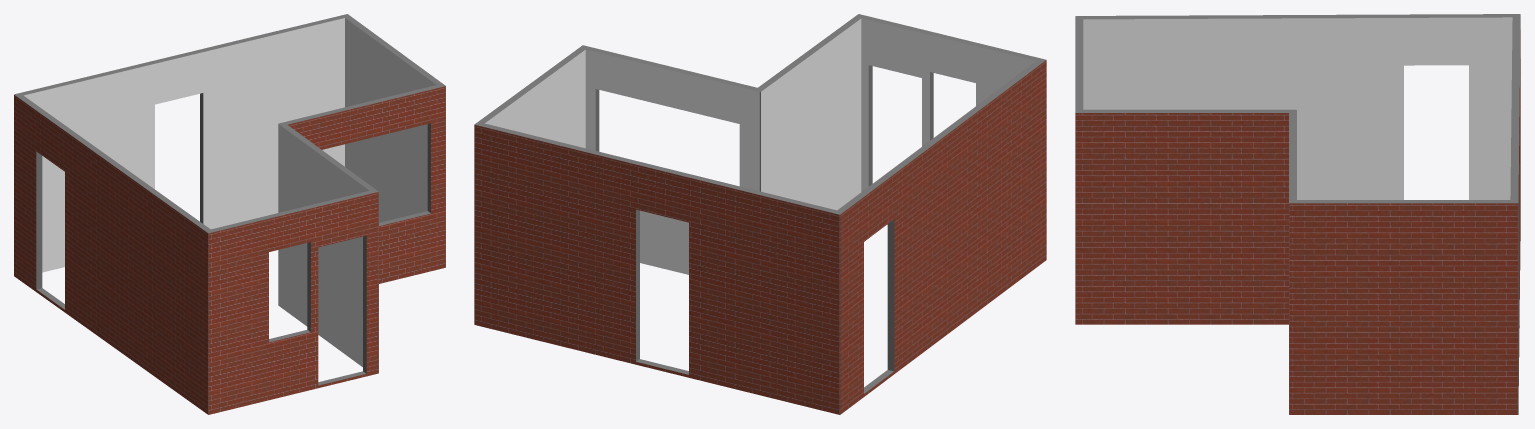
3 views of the same model, side by side, from view 1: azimuth 30°, elevation 25°; view 2: azimuth 150°, elevation 25°; view 3: azimuth 270°, elevation 25° (orthographic). The views are drawn at different scales.
Visible parts, largest first — view 1: WallInside#0_3_0, WallOutside#0_3_5, WallOutside#0_3_4, WallInside#0_3_3, WallOutside#0_3_2, WallInside#0_3_1, WallInside#0_3_5, WallInside#0_3_4, WallOutside#0_3_0, WallInside#0_3_2, WallOutside#0_3_1, WallOutside#0_3_3; view 2: WallOutside#0_3_0, WallOutside#0_3_5, WallInside#0_3_3, WallInside#0_3_2, WallInside#0_3_4, WallInside#0_3_1, WallInside#0_3_5, WallInside#0_3_0, WallOutside#0_3_4, WallOutside#0_3_2, WallOutside#0_3_1; view 3: WallInside#0_3_5, WallOutside#0_3_1, WallOutside#0_3_3, WallOutside#0_3_0, WallOutside#0_3_5, WallInside#0_3_0, WallOutside#0_3_4, WallInside#0_3_3, WallOutside#0_3_2, WallInside#0_3_4, WallInside#0_3_1, WallInside#0_3_2.
Boxes of the visible parts, bbox=[...] form: WallInside#0_3_0: bbox=[16, 15, 350, 272]; WallOutside#0_3_5: bbox=[14, 94, 210, 414]; WallOutside#0_3_4: bbox=[207, 191, 378, 414]; WallInside#0_3_3: bbox=[278, 124, 375, 366]; WallOutside#0_3_2: bbox=[283, 85, 445, 283]; WallInside#0_3_1: bbox=[343, 15, 442, 222]; WallInside#0_3_5: bbox=[18, 94, 213, 306]; WallInside#0_3_4: bbox=[205, 189, 376, 383]; WallOutside#0_3_0: bbox=[14, 14, 348, 222]; WallInside#0_3_2: bbox=[278, 83, 443, 224]; WallOutside#0_3_1: bbox=[345, 14, 445, 267]; WallOutside#0_3_3: bbox=[284, 123, 378, 372]; WallOutside#0_3_0: bbox=[474, 123, 841, 414]; WallOutside#0_3_5: bbox=[840, 60, 1046, 414]; WallInside#0_3_3: bbox=[758, 15, 864, 210]; WallInside#0_3_2: bbox=[580, 47, 761, 274]; WallInside#0_3_4: bbox=[855, 16, 1043, 224]; WallInside#0_3_1: bbox=[478, 46, 588, 148]; WallInside#0_3_5: bbox=[834, 58, 1042, 390]; WallInside#0_3_0: bbox=[477, 122, 842, 372]; WallOutside#0_3_4: bbox=[858, 14, 1045, 184]; WallOutside#0_3_2: bbox=[581, 45, 762, 151]; WallOutside#0_3_1: bbox=[474, 45, 585, 324]; WallInside#0_3_5: bbox=[1076, 15, 1519, 199]; WallOutside#0_3_1: bbox=[1289, 201, 1517, 414]; WallOutside#0_3_3: bbox=[1075, 111, 1288, 324]; WallOutside#0_3_0: bbox=[1514, 14, 1520, 414]; WallOutside#0_3_5: bbox=[1076, 14, 1520, 17]; WallInside#0_3_0: bbox=[1510, 14, 1516, 202]; WallOutside#0_3_4: bbox=[1075, 16, 1079, 324]; WallInside#0_3_3: bbox=[1075, 109, 1295, 111]; WallOutside#0_3_2: bbox=[1289, 110, 1292, 414]; WallInside#0_3_4: bbox=[1079, 16, 1083, 112]; WallInside#0_3_1: bbox=[1289, 200, 1517, 201]; WallInside#0_3_2: bbox=[1292, 110, 1296, 202].
Size of the model in its own units: 5.24 by 2.73 by 5.21.
Materials: 18 (12 with a texture image).
